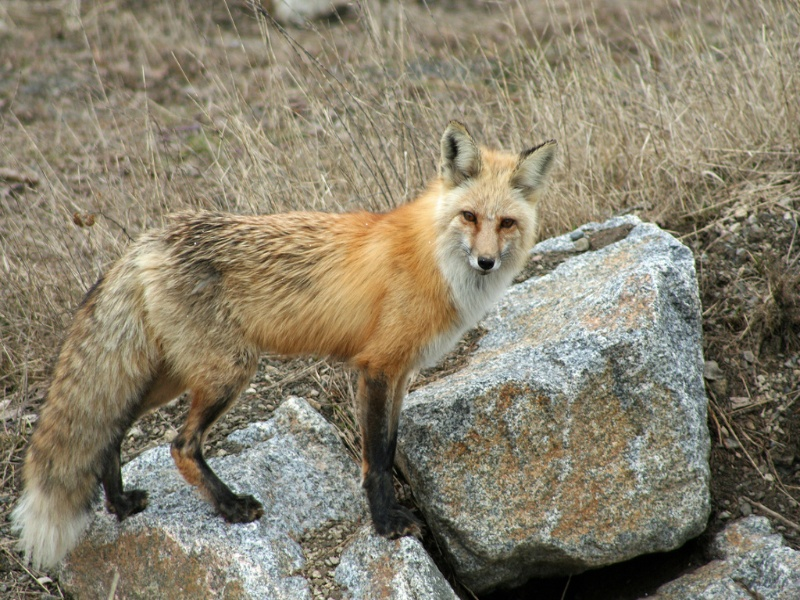fox: (11, 125, 564, 577)
